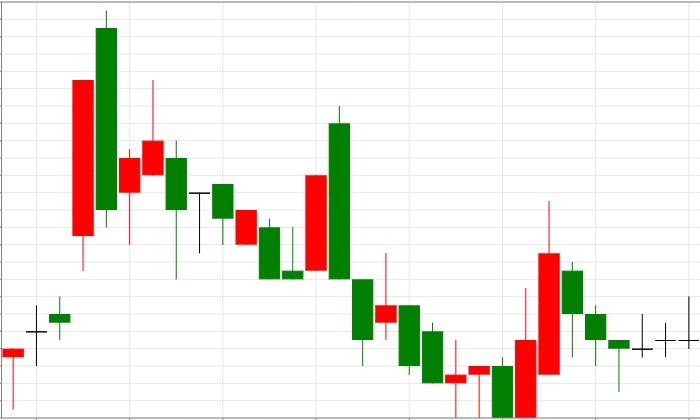bullish_engulfing_rise: (329, 105, 537, 419)
three_black_crows_fall: (492, 201, 630, 419)
